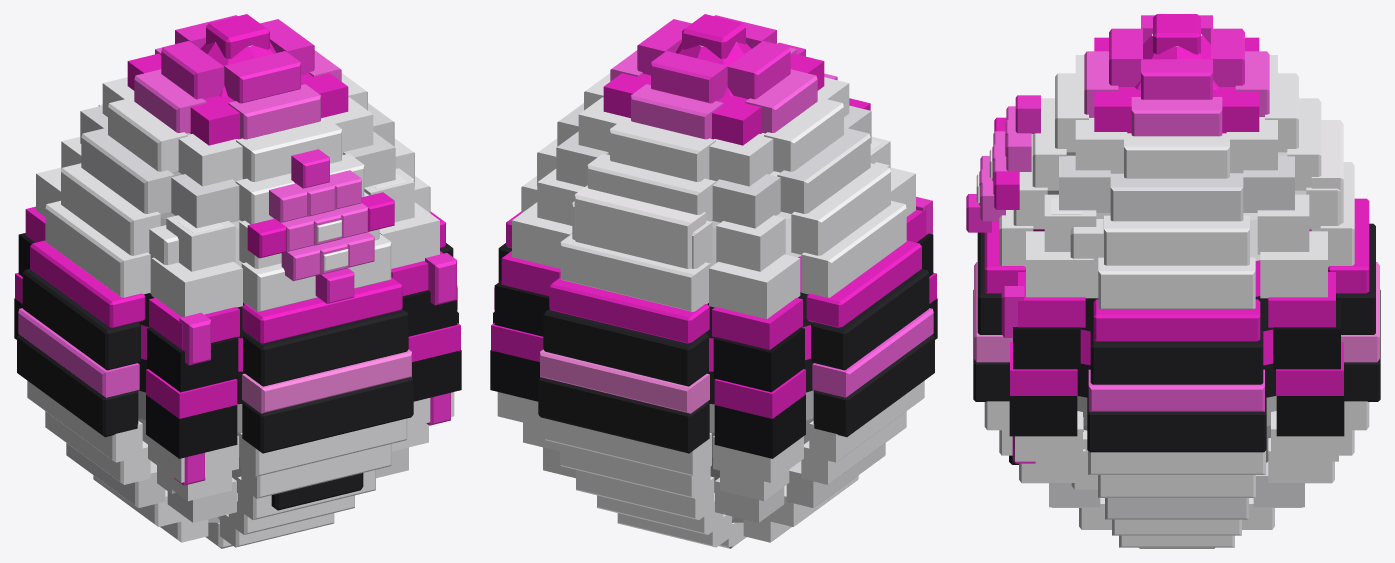
The model's file is Magenta Pixel Egg.fbx.
3 renders of one model, left to right at view 1: azimuth 30°, elevation 25°; view 2: azimuth 150°, elevation 25°; view 3: azimuth 270°, elevation 25°, orthographic.
Parts seen in each view (by area): view 1: Row 09 | broad plate 1, Row 07 | broad plate 1, Row 09 | broad plate 4, Row 10 | broad plate 1, Row 11 | broad plate 4, Row 07 | broad plate 4, Row 08 | broad plate 1, Row 12 | broad plate 4, Row 13 | broad plate 4, Row 11 | corner 4, Row 10 | broad plate 4, Row 06 | broad plate 1 (+71 smaller); view 2: Row 09 | broad plate 3, Row 07 | broad plate 3, Rear white face plate, Row 11 | broad plate 3, Row 09 | broad plate 4, Row 10 | broad plate 3, Row 11 | broad plate 4, Row 07 | broad plate 4, Row 12 | broad plate 4, Row 08 | broad plate 3, Row 14 | broad plate 3, Row 13 | broad plate 4 (+54 smaller); view 3: Row 09 | broad plate 2, Row 07 | broad plate 2, Row 11 | broad plate 2, Row 12 | broad plate 2, Row 13 | broad plate 2, Row 10 | broad plate 2, Row 08 | broad plate 2, Recessed continuous egg core, Row 14 | broad plate 2, Row 06 | broad plate 2, Row 05 | broad plate 2, Row 11 | corner 2 (+62 smaller).
Part boxes in pixels (<box>): Row 09 | broad plate 1: <box>243,309,408,386</box>; Row 07 | broad plate 1: <box>242,377,413,453</box>; Row 09 | broad plate 4: <box>22,269,140,370</box>; Row 10 | broad plate 1: <box>242,277,402,343</box>; Row 11 | broad plate 4: <box>45,200,150,297</box>; Row 07 | broad plate 4: <box>17,334,138,437</box>; Row 08 | broad plate 1: <box>242,349,411,413</box>; Row 12 | broad plate 4: <box>61,163,160,255</box>; Row 13 | broad plate 4: <box>81,127,174,213</box>; Row 11 | corner 4: <box>151,257,242,317</box>; Row 10 | broad plate 4: <box>30,240,145,328</box>; Row 06 | broad plate 1: <box>240,418,407,476</box>; Row 09 | broad plate 3: <box>543,309,708,386</box>; Row 07 | broad plate 3: <box>538,377,709,453</box>; Rear white face plate: <box>574,185,706,268</box>; Row 11 | broad plate 3: <box>560,234,710,311</box>; Row 09 | broad plate 4: <box>811,269,929,370</box>; Row 10 | broad plate 3: <box>549,277,709,343</box>; Row 11 | broad plate 4: <box>801,200,906,297</box>; Row 07 | broad plate 4: <box>813,334,934,437</box>; Row 12 | broad plate 4: <box>791,163,890,255</box>; Row 08 | broad plate 3: <box>540,349,709,413</box>; Row 14 | broad plate 3: <box>610,118,715,181</box>; Row 13 | broad plate 4: <box>777,127,870,213</box>; Row 09 | broad plate 2: <box>1090,329,1263,384</box>; Row 07 | broad plate 2: <box>1087,397,1266,452</box>; Row 11 | broad plate 2: <box>1098,257,1255,308</box>; Row 12 | broad plate 2: <box>1104,215,1249,265</box>; Row 13 | broad plate 2: <box>1110,174,1243,221</box>; Row 10 | broad plate 2: <box>1093,299,1260,341</box>; Row 08 | broad plate 2: <box>1088,369,1264,411</box>; Recessed continuous egg core: <box>1033,34,1311,462</box>; Row 14 | broad plate 2: <box>1124,133,1229,178</box>; Row 06 | broad plate 2: <box>1088,451,1265,474</box>; Row 05 | broad plate 2: <box>1098,475,1255,497</box>; Row 11 | corner 2: <box>1260,231,1327,298</box>.
Bounding box in the file's own units: 216 × 290 × 214.
